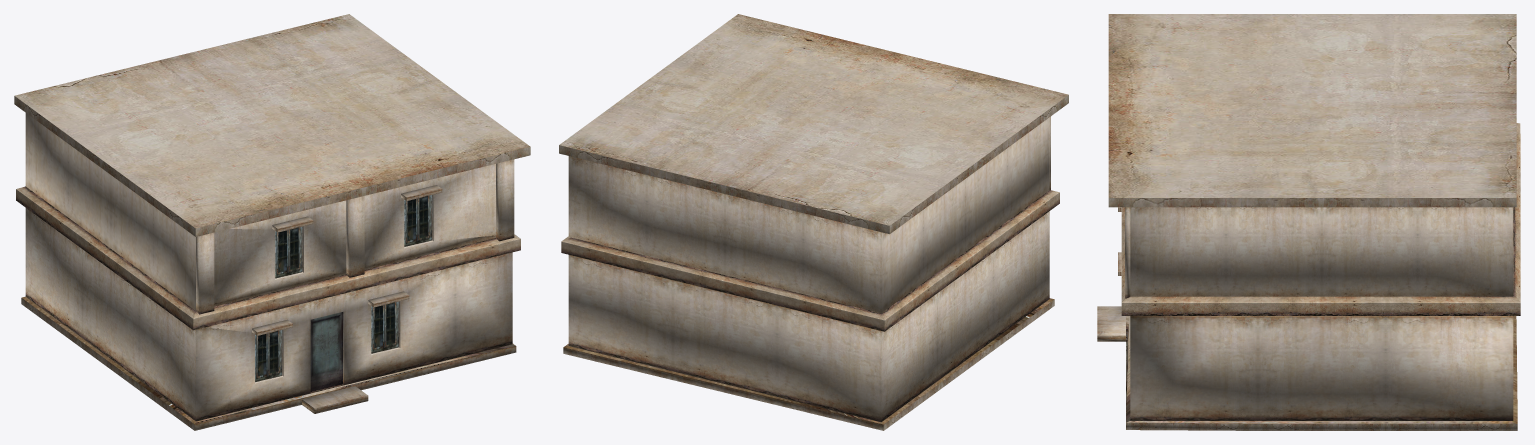
File: BuildingB_Seperated.fbx
The picture shows the model from 3 angles, left to right: view 1: azimuth 30°, elevation 25°; view 2: azimuth 150°, elevation 25°; view 3: azimuth 270°, elevation 25°; orthographic projection. The views are drawn at different scales.
Visible parts, largest first — view 1: BuildingB_Roof, BuildingB_Wall1, BuildingB_Wall2, BuildingB_Floor2, BuildingB_Floor1, BuildingB_Door, BuildingB_Window2, BuildingB_Window4, BuildingB_Window1, BuildingB_Window3; view 2: BuildingB_Roof, BuildingB_Wall1, BuildingB_Wall2, BuildingB_Floor2, BuildingB_Floor1; view 3: BuildingB_Roof, BuildingB_Wall1, BuildingB_Wall2, BuildingB_Floor2, BuildingB_Floor1, BuildingB_Door.
Boxes of the visible parts, x1,y1,x2,y2 form: BuildingB_Roof: (14,14,530,236); BuildingB_Wall1: (25,208,512,421); BuildingB_Wall2: (25,113,514,314); BuildingB_Floor2: (16,186,520,330); BuildingB_Floor1: (21,296,516,430); BuildingB_Door: (302,311,368,413); BuildingB_Window2: (368,291,409,355); BuildingB_Window4: (401,185,442,248); BuildingB_Window1: (252,319,292,383); BuildingB_Window3: (272,216,313,279); BuildingB_Roof: (559,14,1068,234); BuildingB_Wall1: (568,211,1049,422); BuildingB_Wall2: (568,116,1050,313); BuildingB_Floor2: (561,190,1059,331); BuildingB_Floor1: (563,298,1054,430); BuildingB_Roof: (1108,14,1516,207); BuildingB_Wall1: (1130,316,1513,420); BuildingB_Wall2: (1125,207,1513,298); BuildingB_Floor2: (1121,123,1520,315); BuildingB_Floor1: (1126,316,1517,430); BuildingB_Door: (1097,306,1125,341).
Bounding box in the file's own units: 1161 × 694 × 1129.
